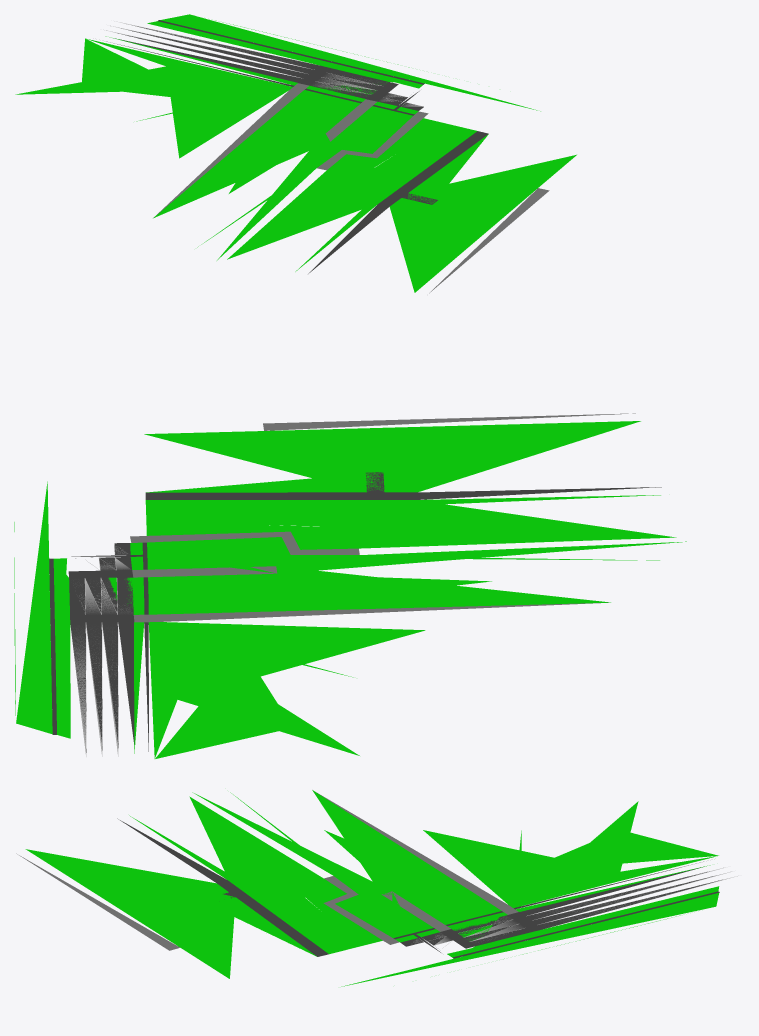
3 renders of one model, top to bottom at view 1: azimuth 30°, elevation 25°; view 2: azimuth 150°, elevation 25°; view 3: azimuth 270°, elevation 25°, orthographic. The views are drawn at different scales.
Size of the model in its own units: 168 by 0.001 by 222.
